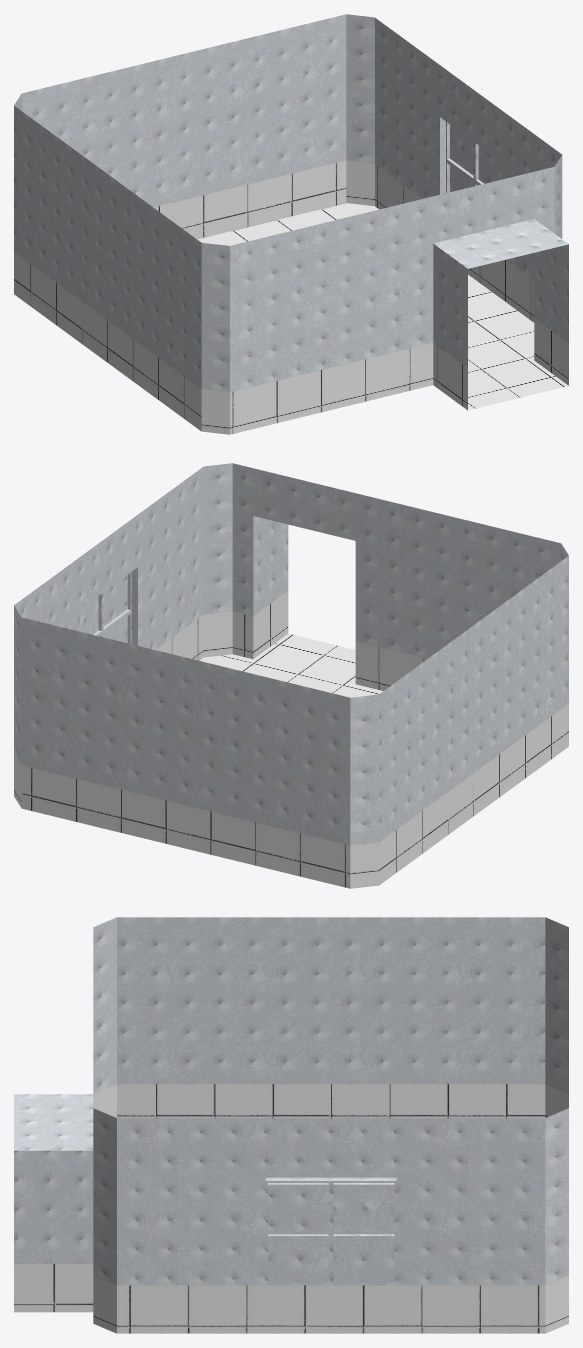
The model's file is room1.fbx.
3 renders of one model, top to bottom at view 1: azimuth 30°, elevation 25°; view 2: azimuth 150°, elevation 25°; view 3: azimuth 270°, elevation 25°, orthographic. The views are drawn at different scales.
Visible parts, largest first — view 1: Room1; view 2: Room1; view 3: Room1.
Boxes of the visible parts, bbox=[...] form: Room1: bbox=[14, 14, 568, 434]; Room1: bbox=[14, 463, 568, 888]; Room1: bbox=[14, 917, 568, 1333].
Size of the model in its own units: 615 by 300 by 700.
1 material, 1 textured.
